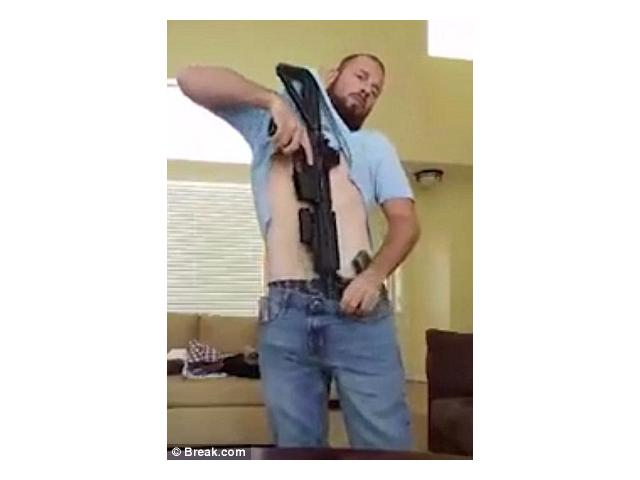rifle: (268, 54, 348, 312)
